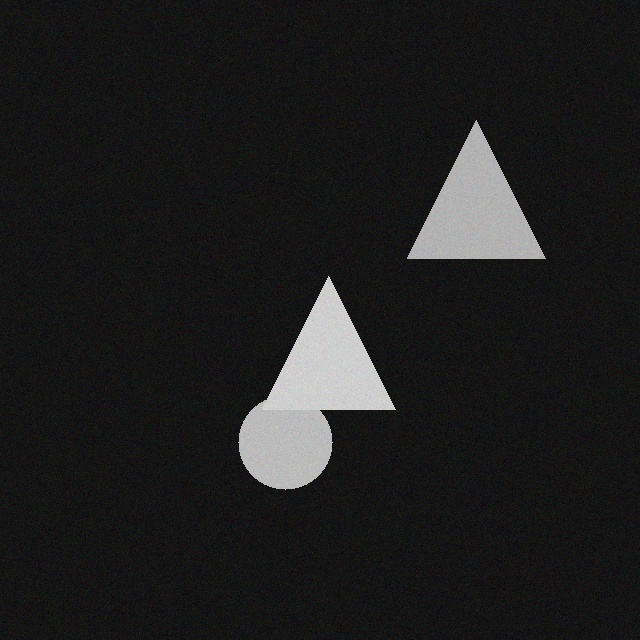circle: (251, 392, 345, 486)
triangle: (420, 117, 558, 255), (275, 273, 408, 406)
